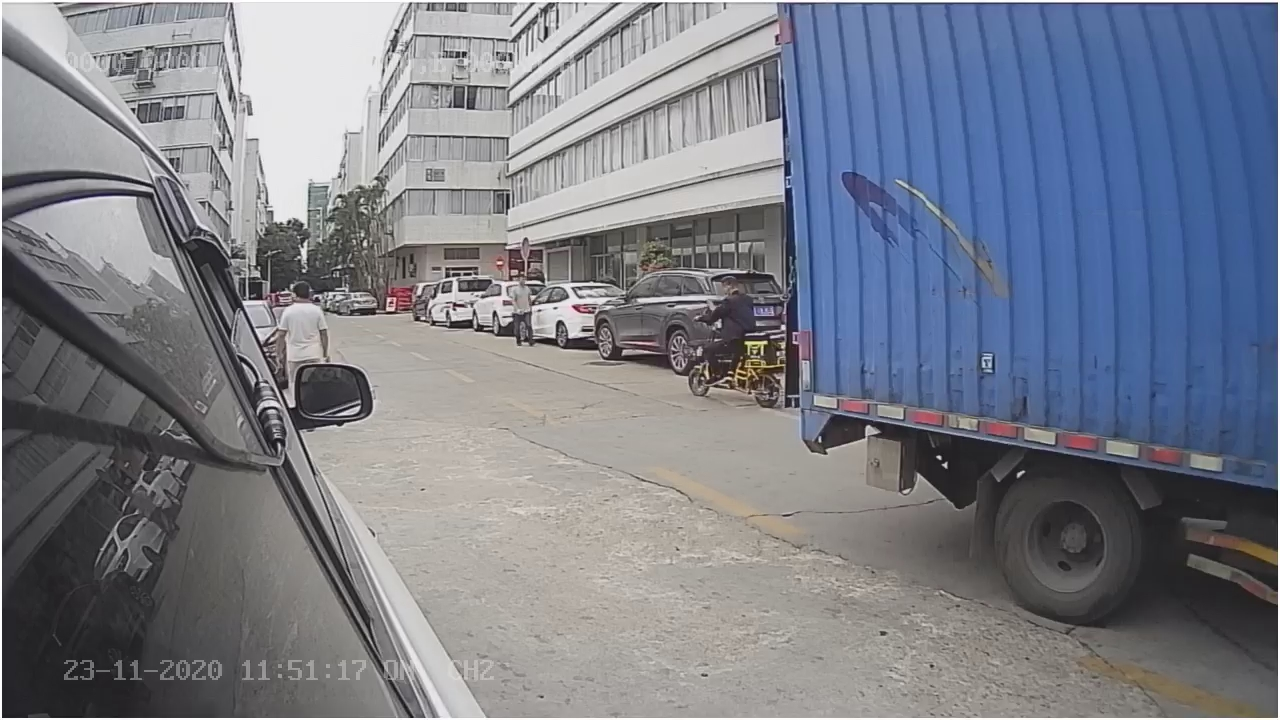person: (696, 265, 762, 339)
